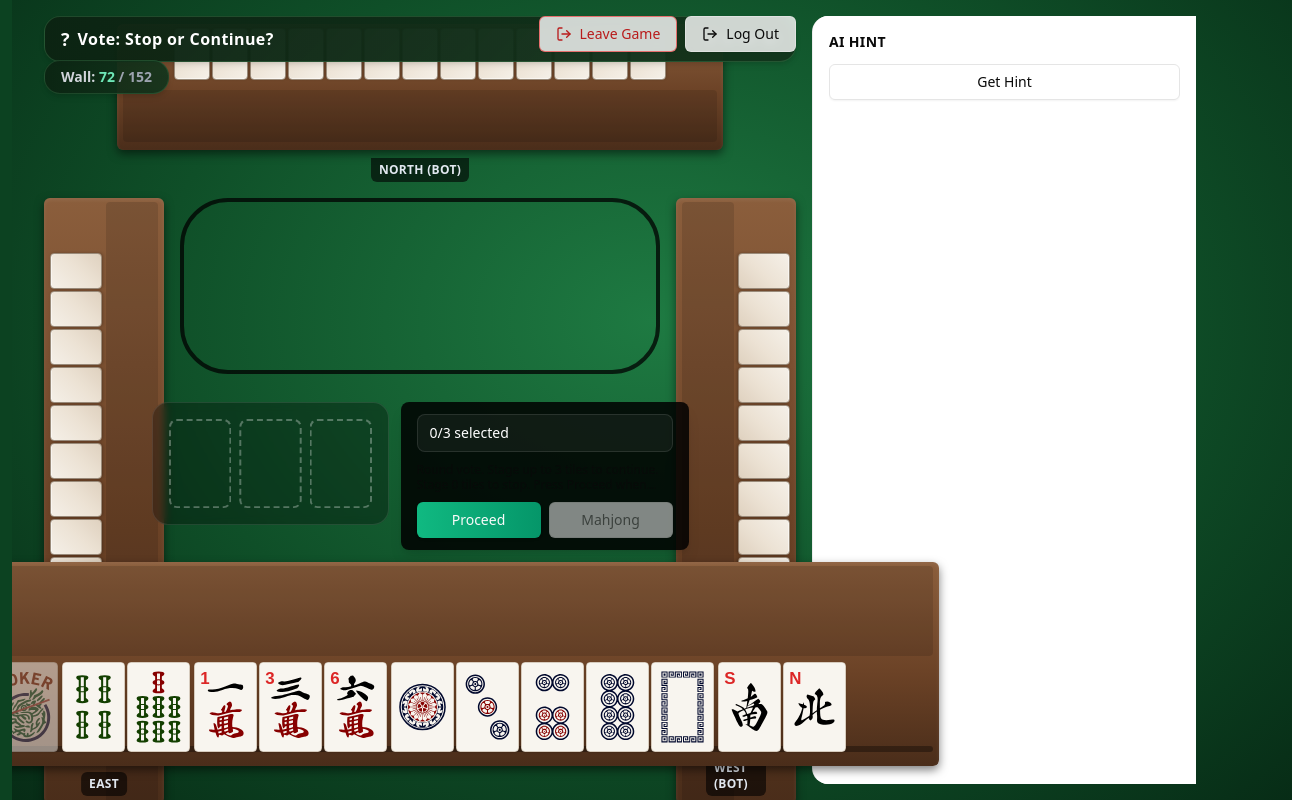
Scenario: US-005: Charleston Voting (Stop/Continue) › Test 3: Vote progress tracking (AC-4) › shows the bot vote message when a bot vote arrives
Click the button with test id "proceed-button": (478, 520) left=416, top=502, right=540, bottom=538
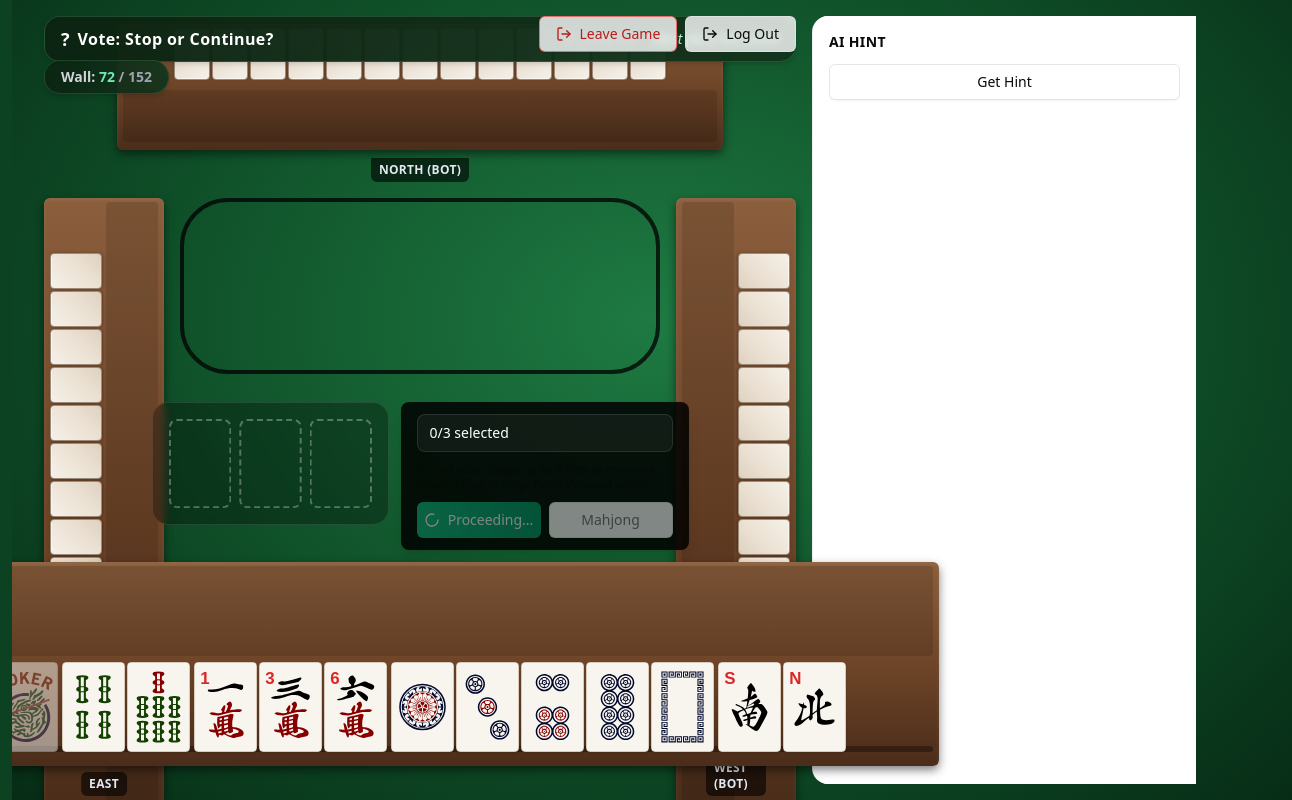
Expected: the text with test id "charleston-status-message" reads "West (Bot) has voted", left=653, top=29, right=779, bottom=48
